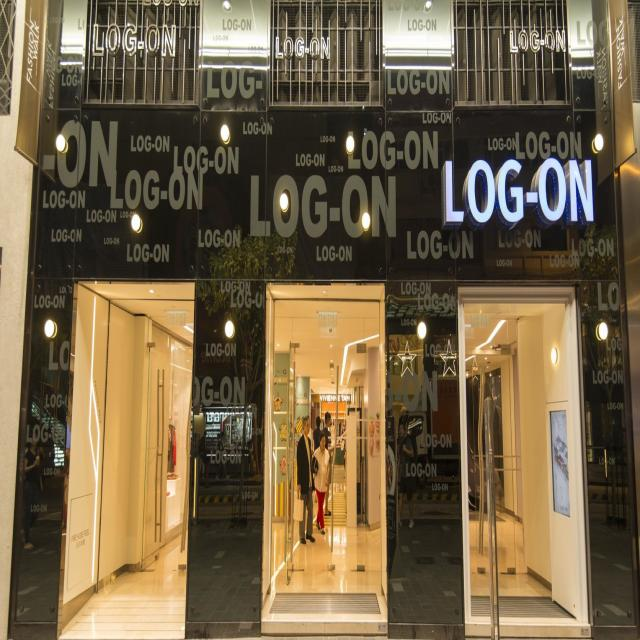body: (386, 407, 461, 590), (194, 394, 261, 559), (20, 429, 55, 562), (295, 414, 316, 545), (483, 377, 502, 487), (311, 430, 330, 535), (320, 410, 332, 517), (364, 412, 382, 456), (330, 418, 347, 454), (313, 415, 322, 452)
